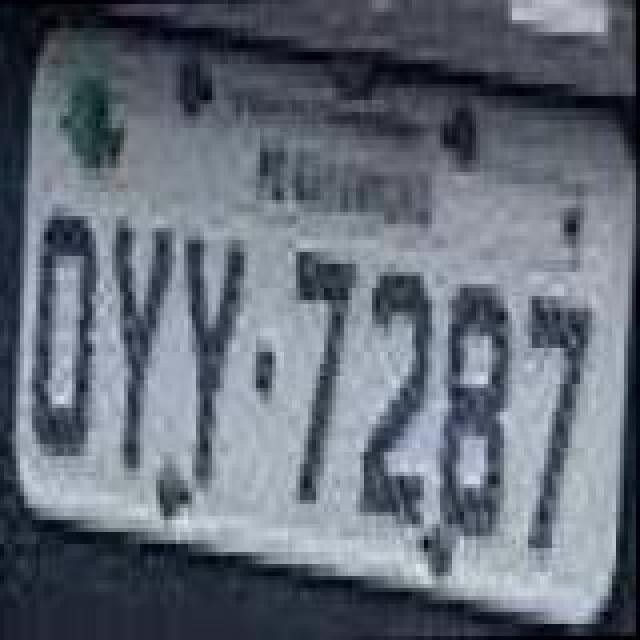2: (360, 266, 440, 530)
7: (520, 282, 600, 558), (288, 244, 364, 508)
8: (436, 274, 524, 538)
O: (28, 206, 104, 458)
Y: (108, 216, 176, 480), (180, 230, 248, 494)
